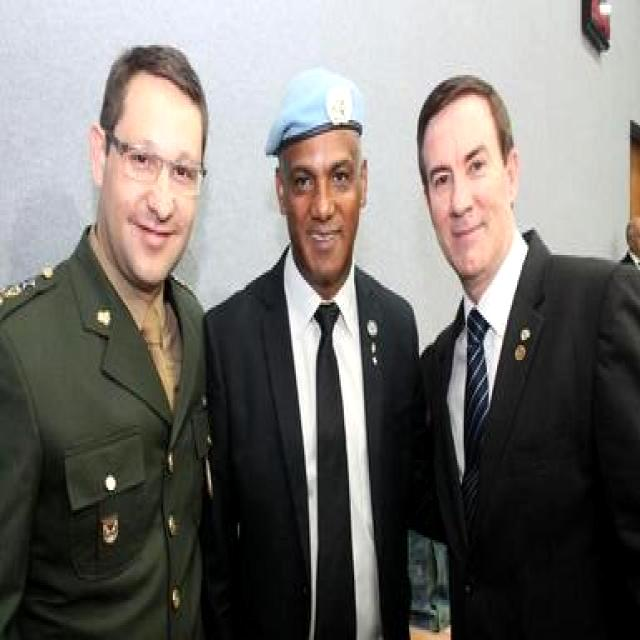no_hard_hat: (266, 68, 362, 155)
no_head_wear: (100, 45, 208, 155), (417, 75, 512, 190)
person: (414, 80, 638, 638), (0, 45, 208, 638), (208, 70, 417, 638)
